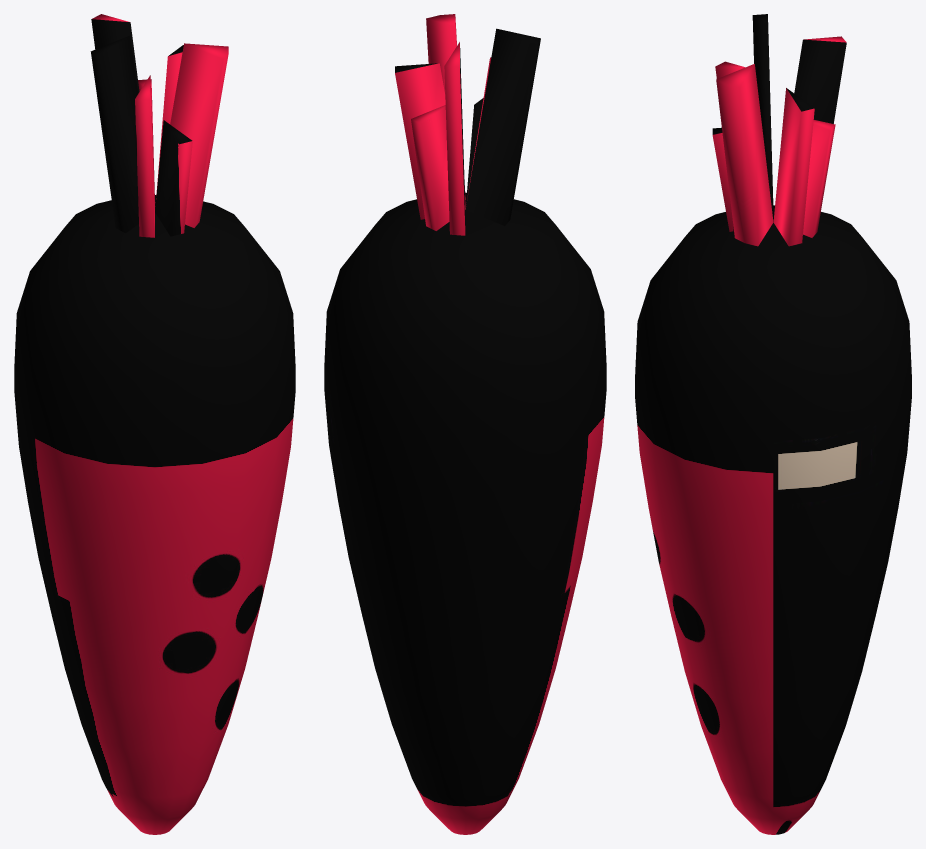
Rendered from texturedCarrot.FBX.
The picture shows the model from 3 angles, left to right: view 1: azimuth 30°, elevation 25°; view 2: azimuth 150°, elevation 25°; view 3: azimuth 270°, elevation 25°; orthographic projection. The views are drawn at different scales.
Visible parts, largest first — view 1: Cylinder001; view 2: Cylinder001; view 3: Cylinder001.
Boxes of the visible parts, x1,y1,x2,y2 form: Cylinder001: [14, 14, 295, 834]; Cylinder001: [324, 14, 606, 834]; Cylinder001: [635, 14, 911, 834].
Size of the model in its own units: 41.27 by 128 by 40.64.
